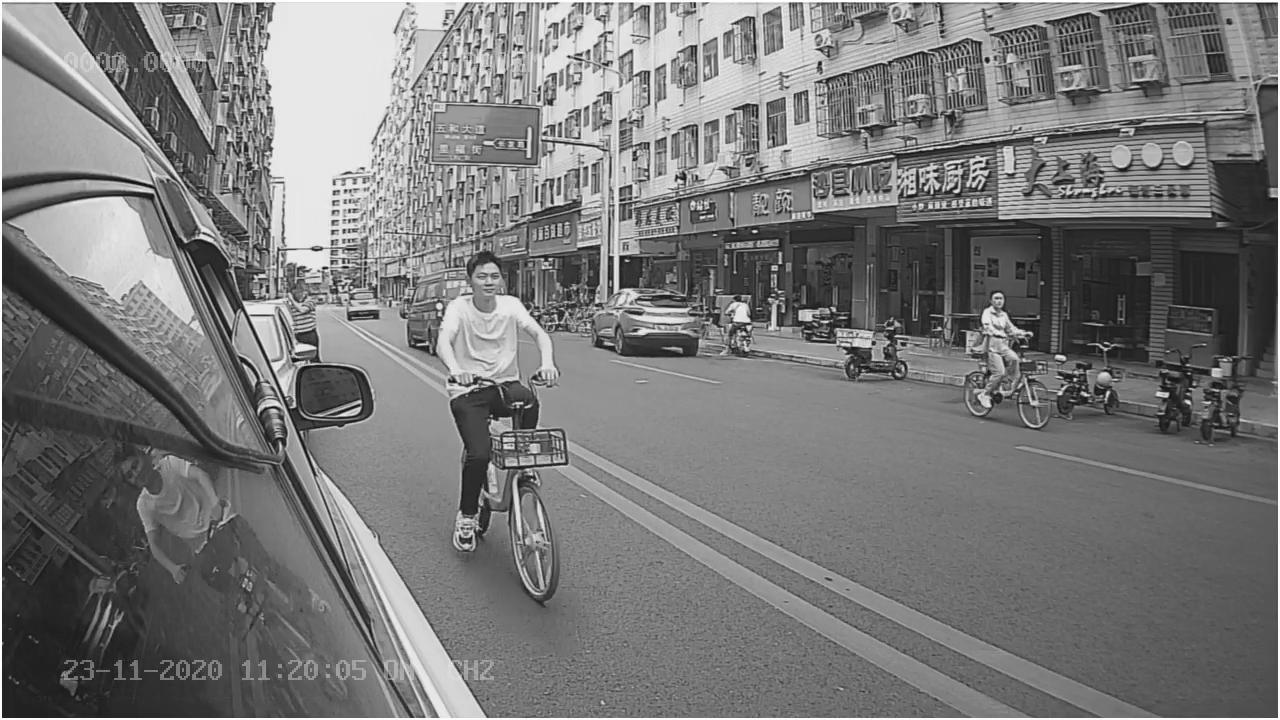person: (423, 251, 567, 394)
